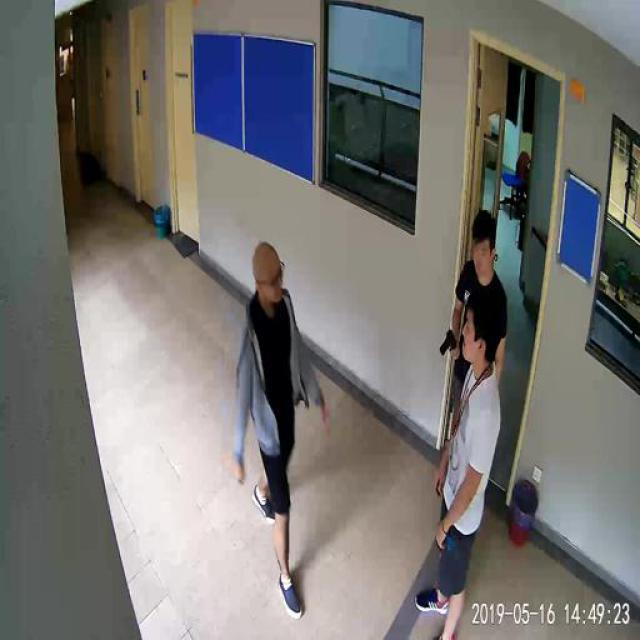Gun: (438, 328, 456, 358)
